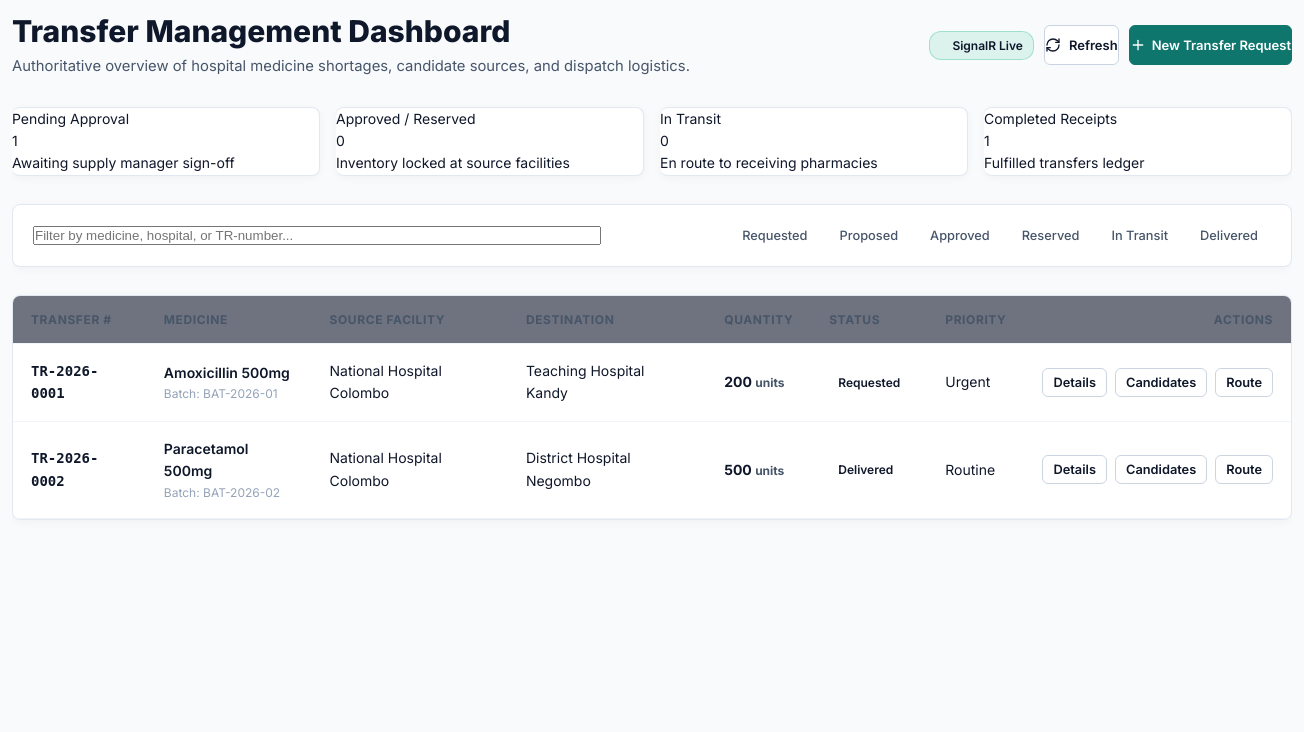
Test case: TransferDashboard Component › filters transfers by search input
Check: the text "TR-2026-0001" is shown, box [31,363,98,401]
Type "Amoxicillin" into the search field with placeholder "Filter by medicine, hospital, or TR-number...". click: x=317, y=235
box: [33,226,601,245]
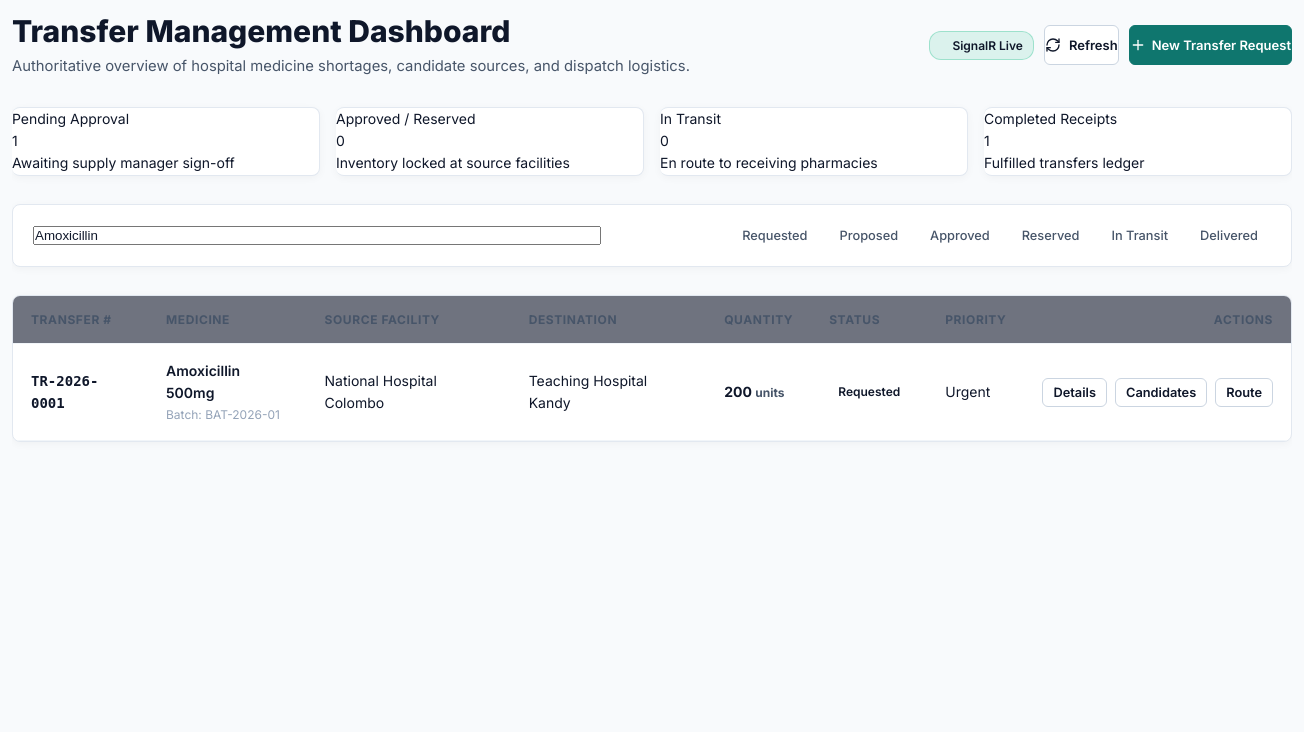
Check: the text "TR-2026-0001" is shown, box [31,373,98,411]
Check: the text "TR-2026-0002" is gone
